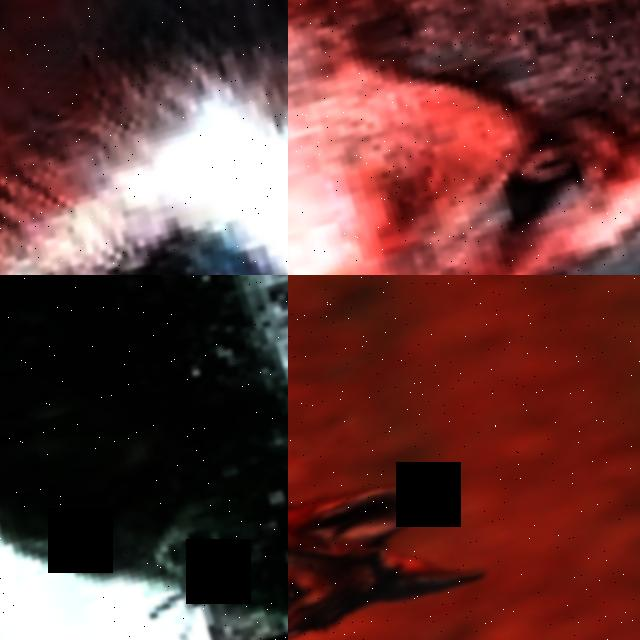dog: (0, 0, 288, 275)
wolf: (288, 311, 622, 640), (0, 275, 288, 640), (288, 0, 640, 275)
